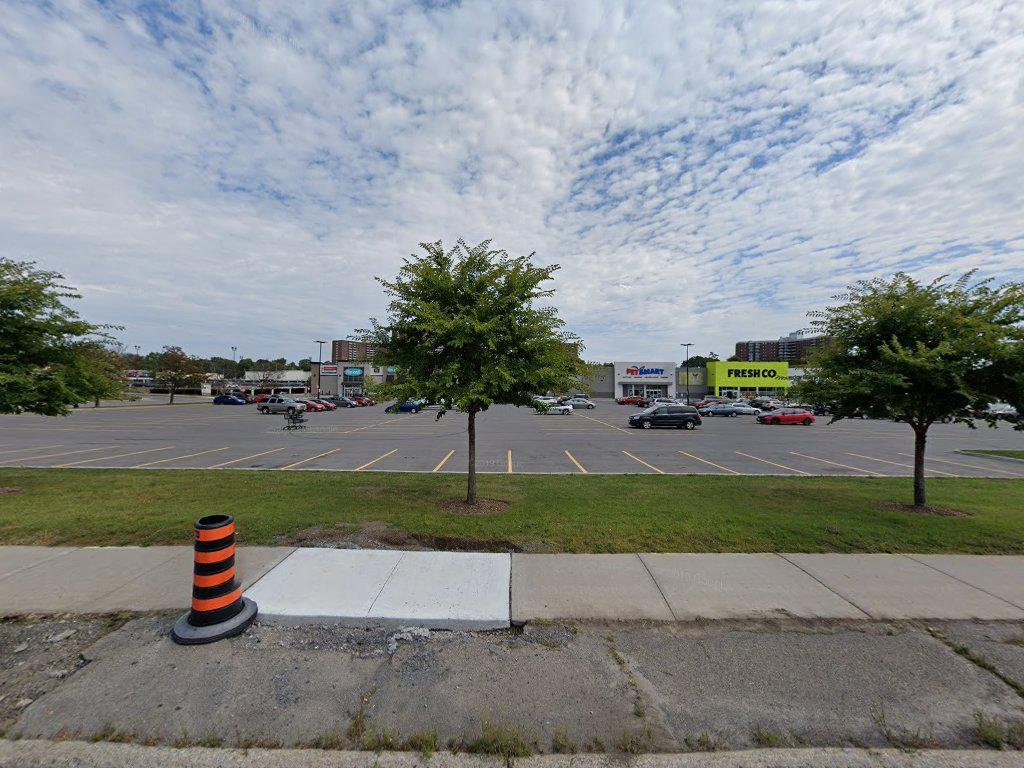trunk: (910, 425, 929, 515)
